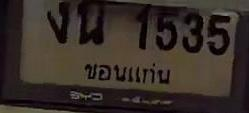number: (45, 0, 232, 57)
province: (82, 62, 172, 86)
